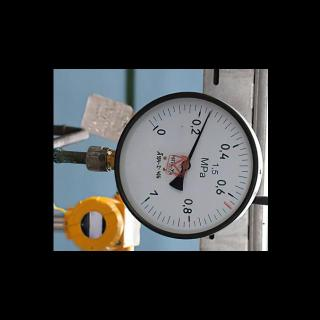gauge: (95, 84, 269, 250), (145, 116, 163, 136), (139, 189, 157, 207), (181, 158, 191, 170), (207, 108, 213, 116)
